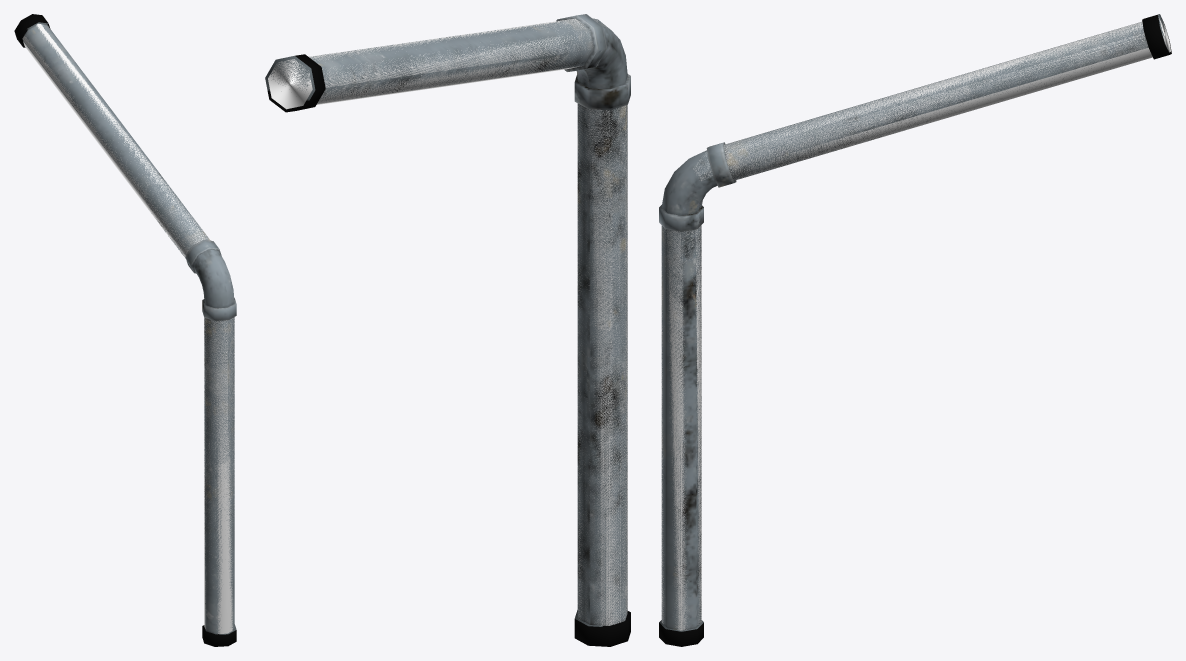
File: objects_un_dlc1_t10pipe01_02.gltf
The picture shows the model from 3 angles, left to right: view 1: azimuth 30°, elevation 25°; view 2: azimuth 150°, elevation 25°; view 3: azimuth 270°, elevation 25°; orthographic projection. The views are drawn at different scales.
Visible parts, largest first — view 1: um_objects_un_dlc1_t10pipe01_02_model_lod0Shape:objects_un_d (×2); view 2: um_objects_un_dlc1_t10pipe01_02_model_lod0Shape:objects_un_d (×2); view 3: um_objects_un_dlc1_t10pipe01_02_model_lod0Shape:objects_un_d (×2).
Boxes of the visible parts, box(x1,y1,x2,y2) form: um_objects_un_dlc1_t10pipe01_02_model_lod0Shape:objects_un_d (×2): box(14, 14, 236, 646); um_objects_un_dlc1_t10pipe01_02_model_lod0Shape:objects_un_d (×2): box(265, 14, 630, 646); um_objects_un_dlc1_t10pipe01_02_model_lod0Shape:objects_un_d (×2): box(659, 14, 1171, 646).
Size of what is drawn, in the model's own units: 0.1963 by 3 by 2.24.
2 materials, 1 textured.
